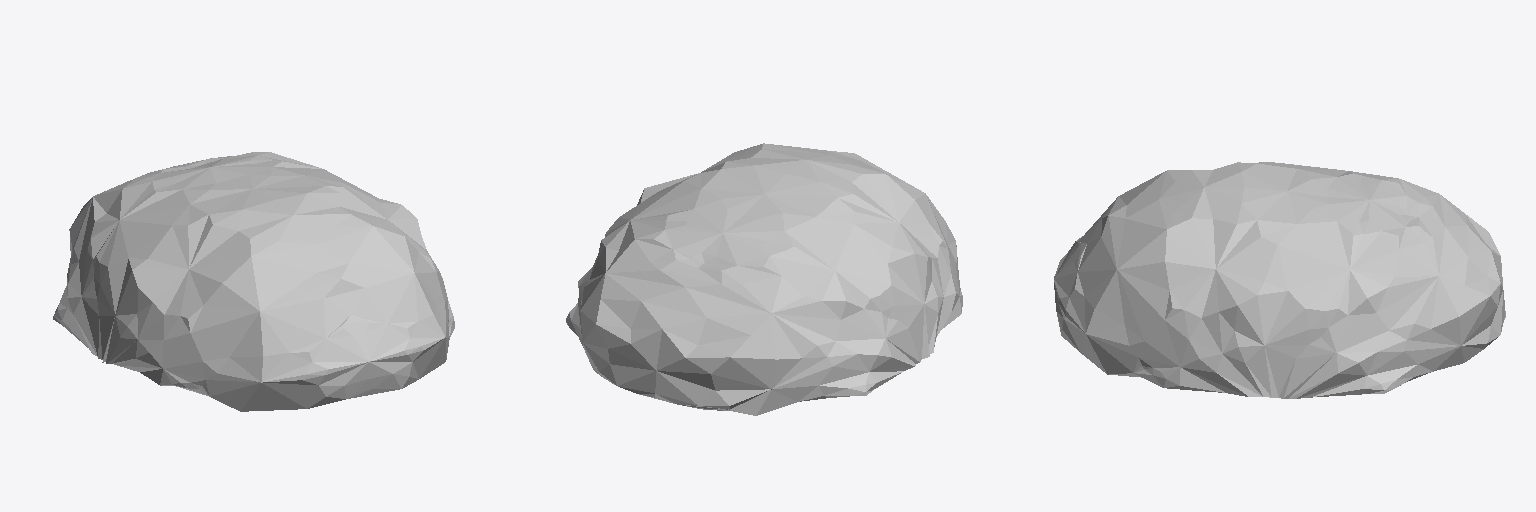
Rendered from EspaStone.obj.
3 views of the same model, side by side, from view 1: azimuth 30°, elevation 25°; view 2: azimuth 150°, elevation 25°; view 3: azimuth 270°, elevation 25° (orthographic).
Visible parts, largest first — view 1: Power_Stone_(1); view 2: Power_Stone_(1); view 3: Power_Stone_(1).
Part boxes in pixels (bbox=[...]): Power_Stone_(1): bbox=[53, 152, 454, 411]; Power_Stone_(1): bbox=[566, 143, 962, 415]; Power_Stone_(1): bbox=[1054, 162, 1505, 398].
Bounding box in the file's own units: 0.8913 × 0.3725 × 1.11.